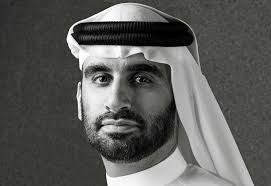middle_eastern_male: (72, 23, 185, 162)
